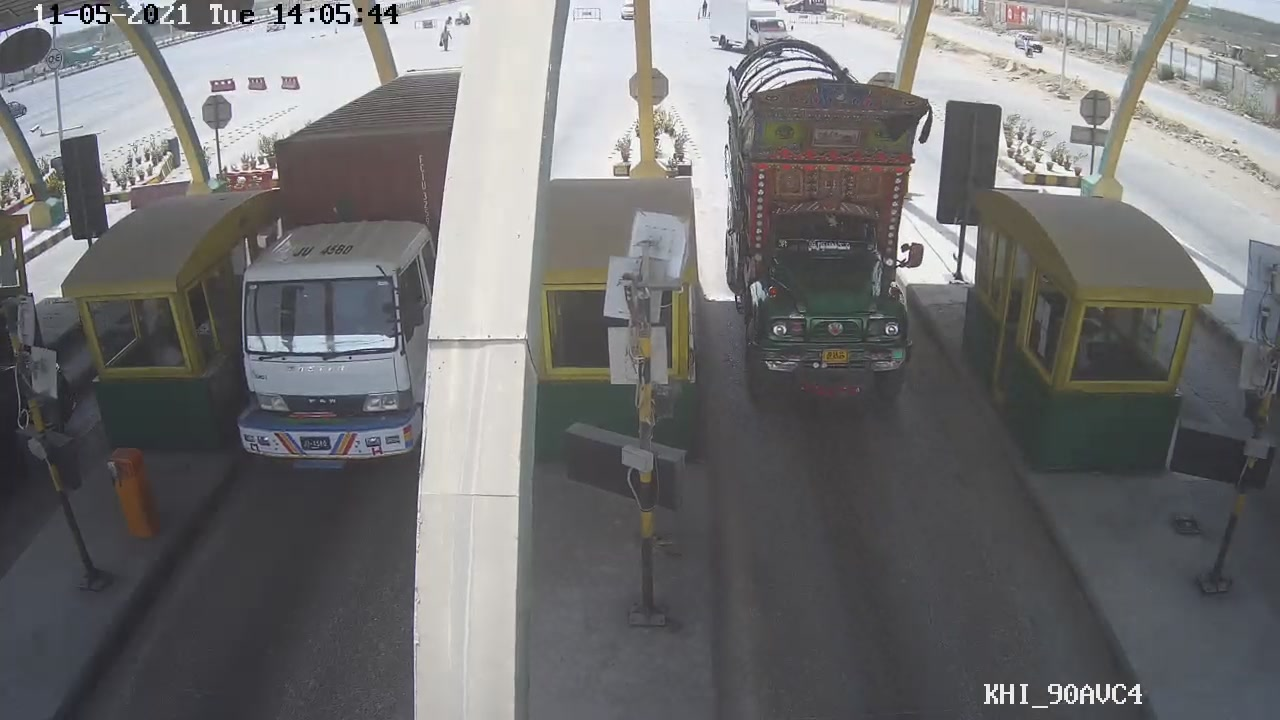F5: (710, 40, 954, 408)
